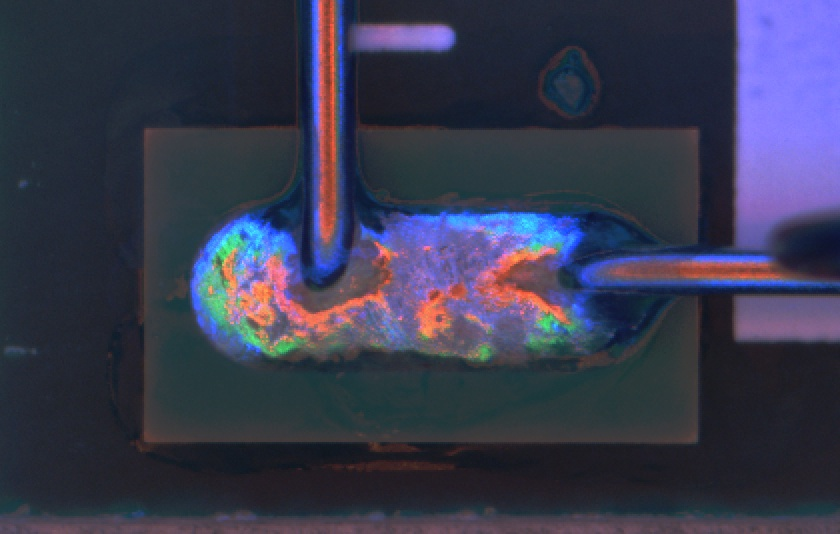spring: (550, 216, 840, 310), (297, 1, 360, 309)
spring_pin: (190, 206, 656, 372)
